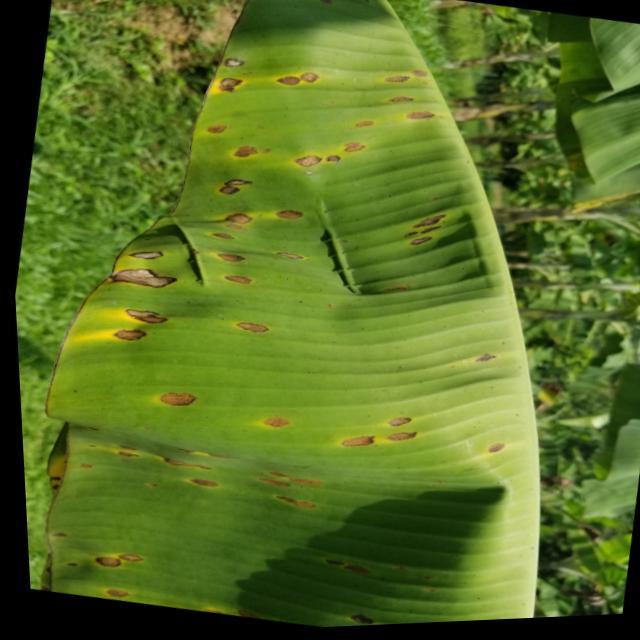Early_rust: (43, 0, 525, 640)
